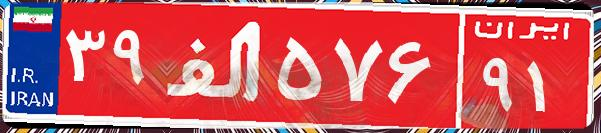1: (525, 38, 570, 115)
3: (57, 26, 110, 107)
5: (273, 28, 330, 110)
6: (385, 28, 445, 110)
7: (330, 28, 385, 110)
9: (475, 38, 525, 113), (110, 28, 158, 105)
الف: (158, 15, 273, 115)
